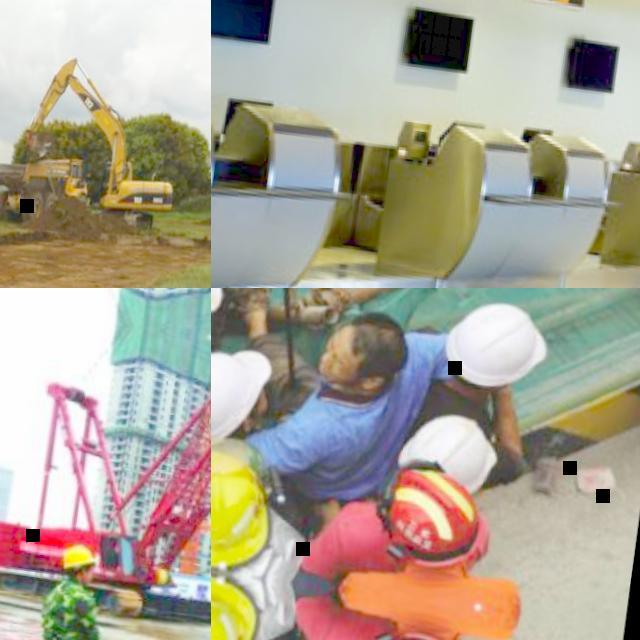helmet: (429, 288, 565, 404), (211, 442, 292, 586), (381, 466, 482, 566), (211, 327, 281, 462), (393, 406, 499, 494), (211, 571, 262, 640), (62, 542, 96, 572)
